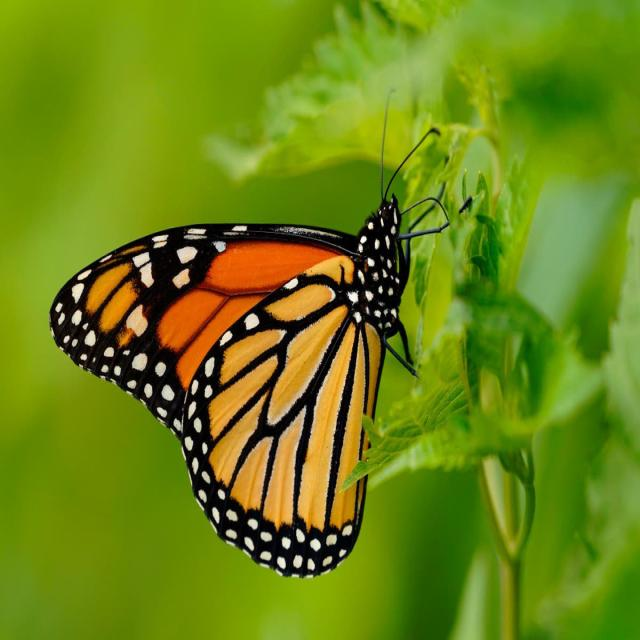butterfly: (103, 210, 404, 530)
